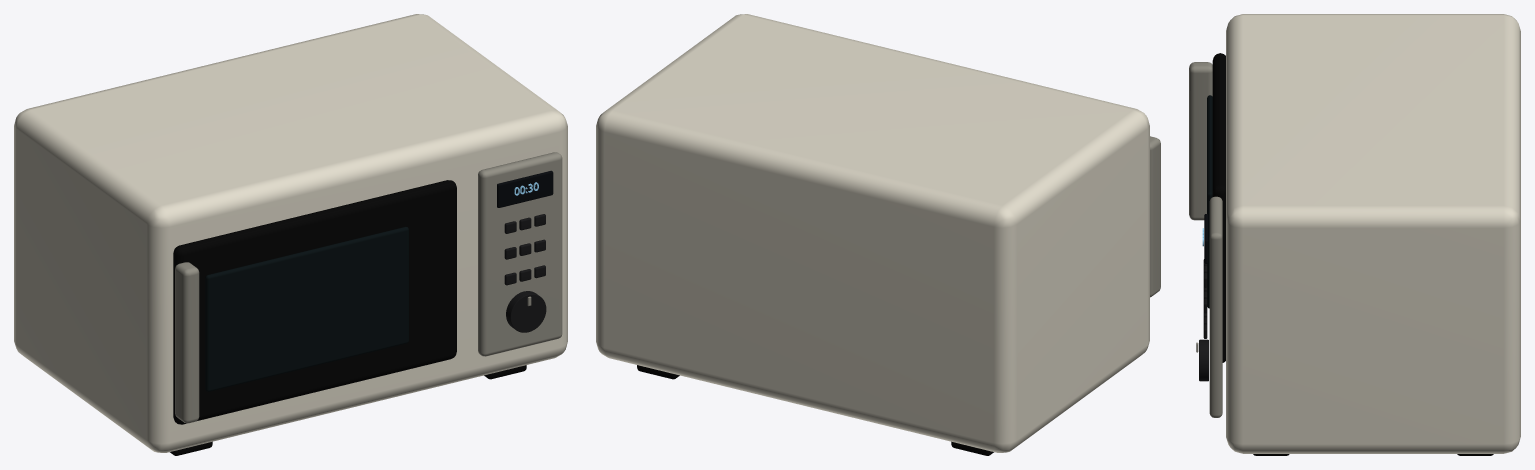
Rendered from Microwave.obj.
3 renders of one model, left to right at view 1: azimuth 30°, elevation 25°; view 2: azimuth 150°, elevation 25°; view 3: azimuth 270°, elevation 25°, orthographic.
Parts seen in each view (by area): view 1: SM_Microwave_Housing, SM_Microwave_Glass_Window, SM_Microwave_Black_Front, SM_Microwave_Right_Control_Panel, SM_Microwave_Door_Handle, SM_Microwave_Display, SM_Microwave_Dial; view 2: SM_Microwave_Housing, SM_Microwave_Door_Handle; view 3: SM_Microwave_Housing, SM_Microwave_Right_Control_Panel, SM_Microwave_Door_Handle, SM_Microwave_Black_Front, SM_Microwave_Glass_Window, SM_Microwave_Dial.
Boxes of the visible parts, x1,y1,x2,y2 form: SM_Microwave_Housing: (14, 14, 567, 452); SM_Microwave_Glass_Window: (205, 226, 408, 391); SM_Microwave_Black_Front: (173, 180, 456, 424); SM_Microwave_Right_Control_Panel: (478, 152, 562, 356); SM_Microwave_Door_Handle: (175, 262, 199, 423); SM_Microwave_Display: (497, 170, 553, 207); SM_Microwave_Dial: (506, 291, 546, 332); SM_Microwave_Housing: (596, 14, 1149, 452); SM_Microwave_Door_Handle: (1150, 136, 1160, 297); SM_Microwave_Housing: (1226, 14, 1520, 453); SM_Microwave_Right_Control_Panel: (1209, 196, 1222, 417); SM_Microwave_Door_Handle: (1189, 62, 1212, 220); SM_Microwave_Black_Front: (1212, 53, 1225, 362); SM_Microwave_Glass_Window: (1207, 95, 1212, 308); SM_Microwave_Dial: (1199, 339, 1208, 381).
Size of the model in its own units: 1.28 by 0.76 by 0.8775.
